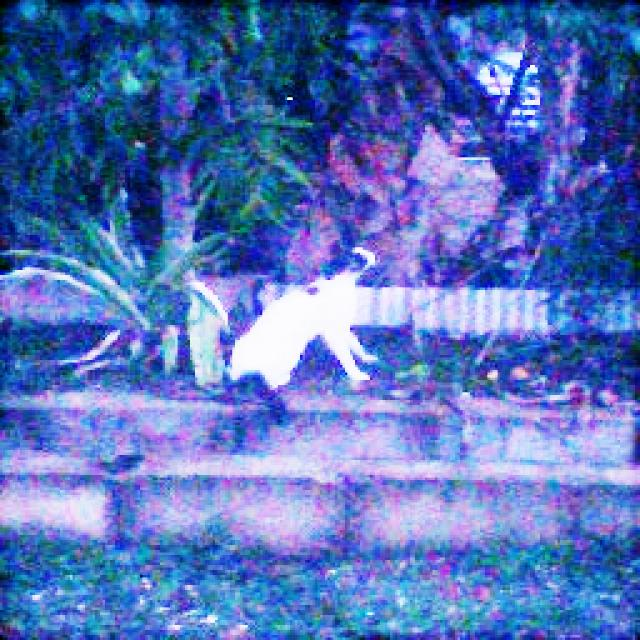cat: (225, 242, 389, 400)
